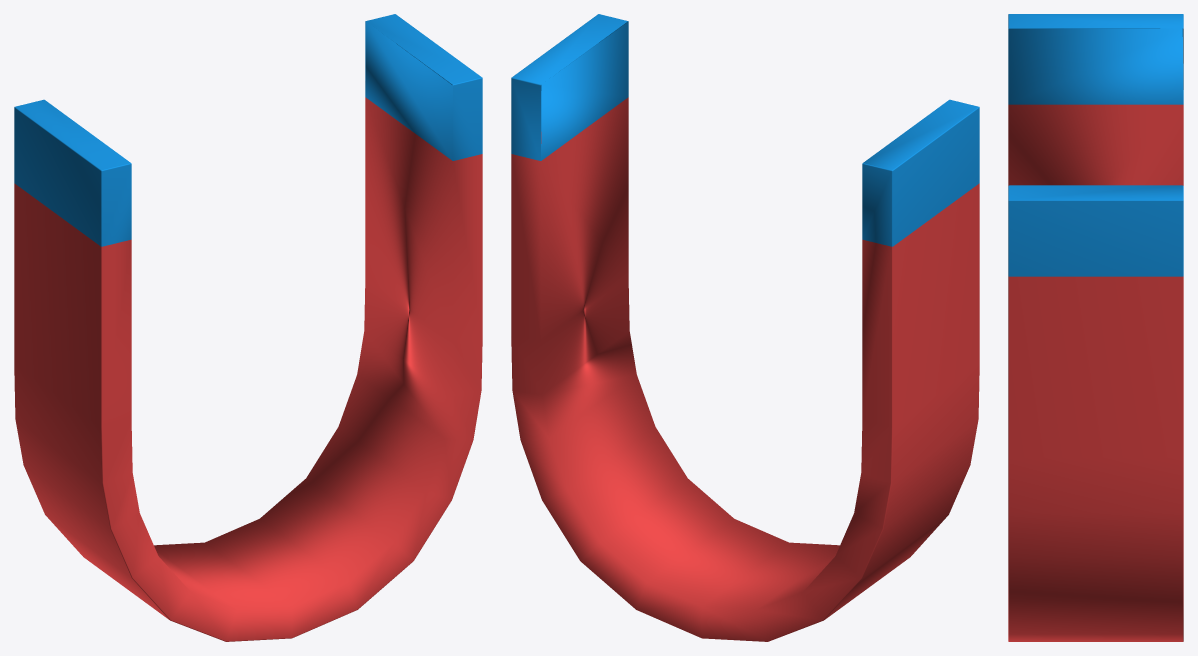
File: Mag 2.fbx
3 renders of one model, left to right at view 1: azimuth 30°, elevation 25°; view 2: azimuth 150°, elevation 25°; view 3: azimuth 270°, elevation 25°, orthographic.
Parts seen in each view (by area): view 1: Circle.007; view 2: Circle.007; view 3: Circle.007.
Boxes of the visible parts, x1,y1,x2,y2 form: Circle.007: (14,14,482,641); Circle.007: (511,14,979,641); Circle.007: (1008,14,1183,641).
Size of the model in its own units: 549 by 707 by 218.
